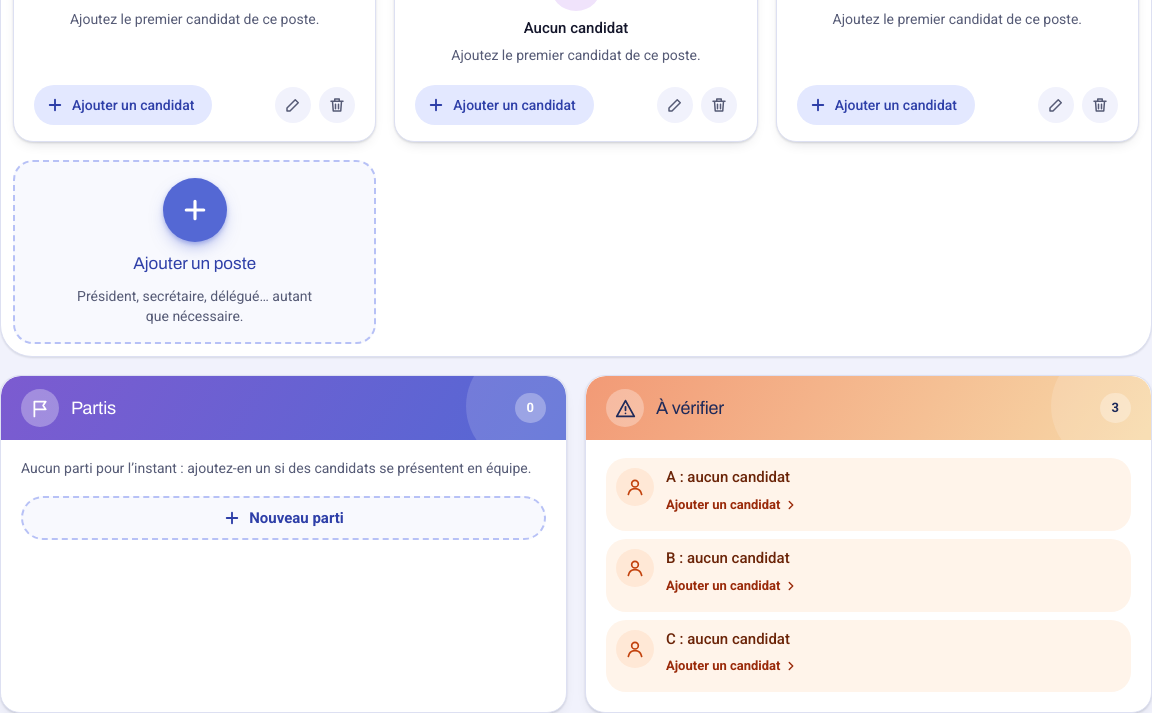
Test: BallotsPage parties › shows the limit notice in the modal
(page scrolled)
Click the button with test id "party-new" at (284, 518), box [21,496,546,540]
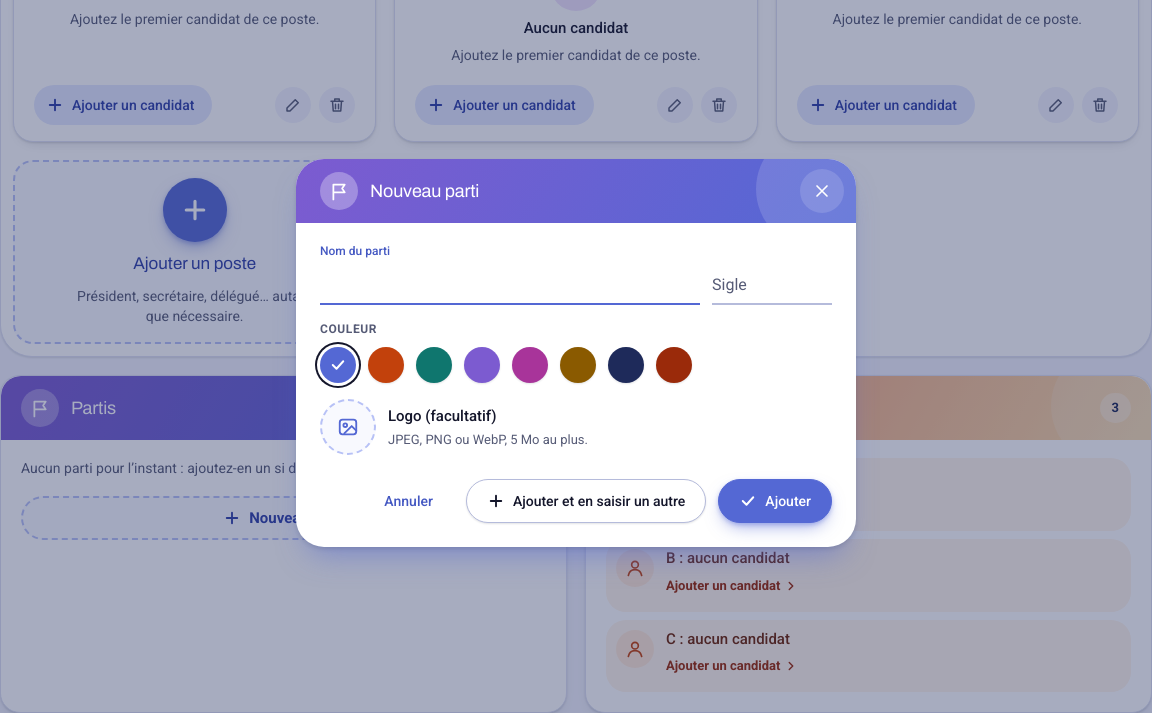
Type "Trente et un" into the field with test id "party-form-name" at (510, 283), box [320,261,700,305]
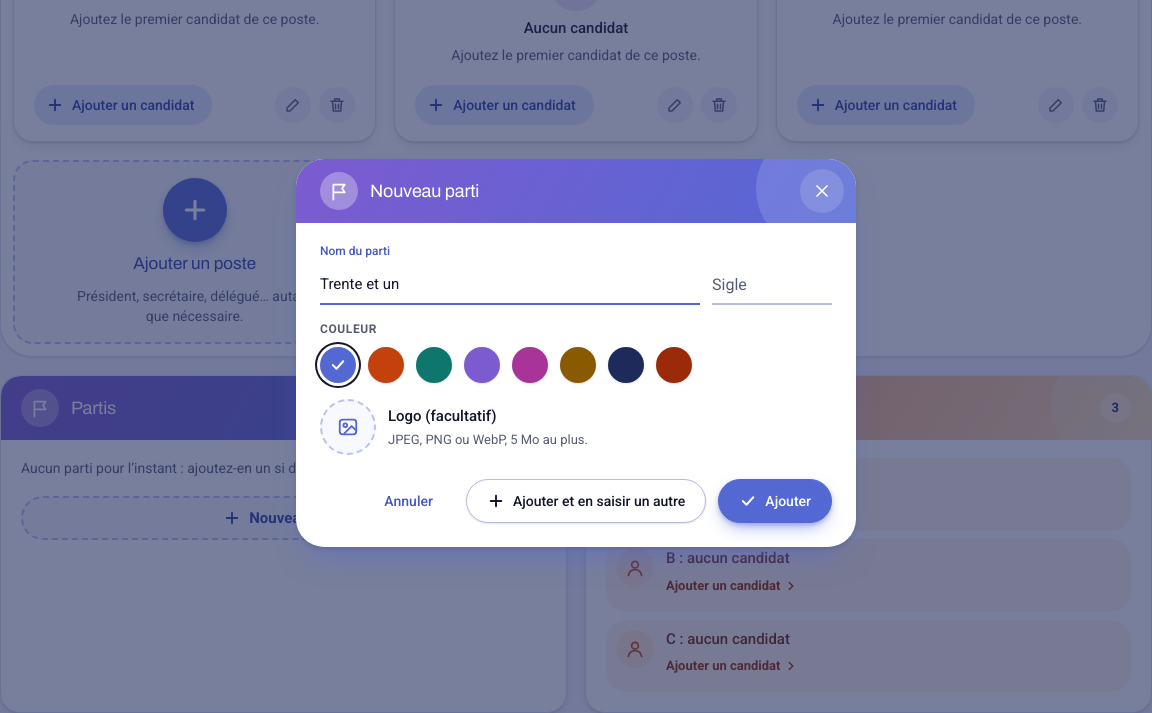
Click the button with test id "party-form-save" at (775, 501), box [718,479,832,523]
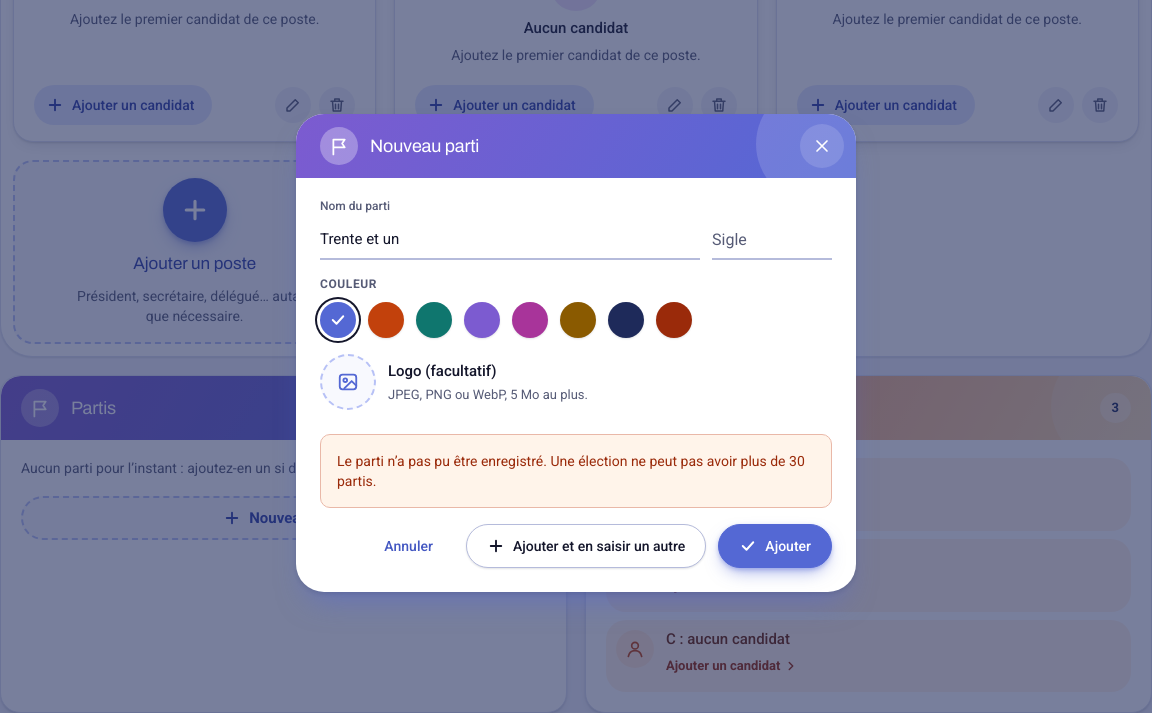
Check: the dialog with test id "party-modal" is shown, box [296,114,856,592]
Check: the message with test id "party-form-alert" shows "30 partis", box [337,453,805,489]
